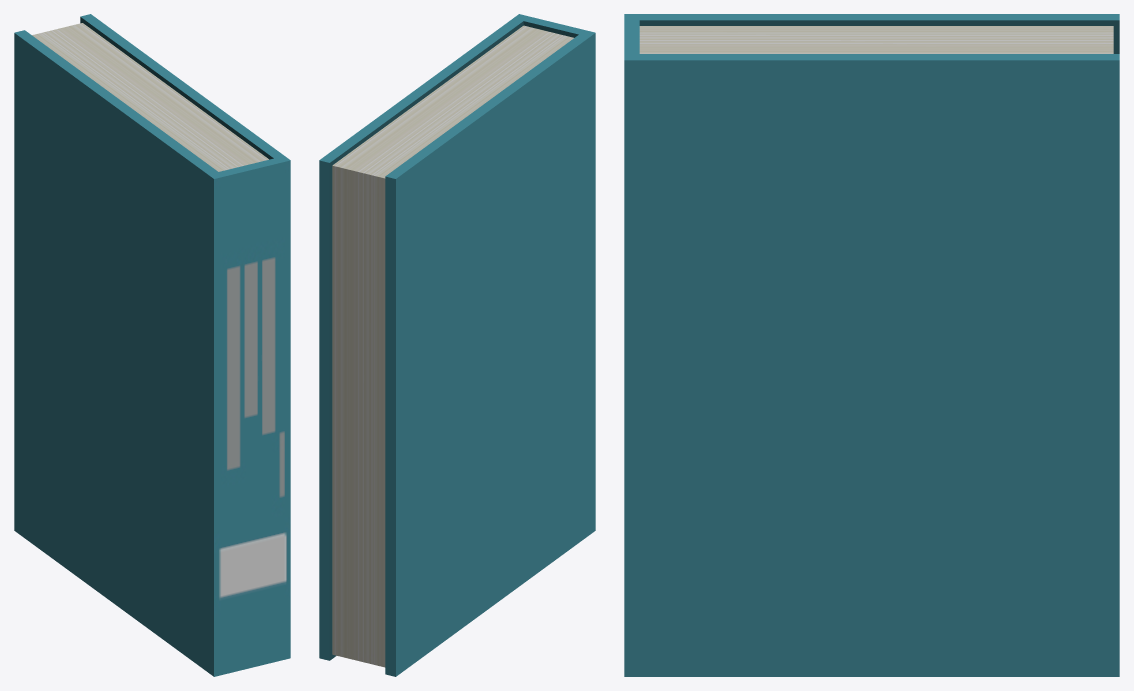
File: BOOK002.fbx
3 renders of one model, left to right at view 1: azimuth 30°, elevation 25°; view 2: azimuth 150°, elevation 25°; view 3: azimuth 270°, elevation 25°, orthographic. The views are drawn at different scales.
Parts seen in each view (by area): view 1: BOOK002; view 2: BOOK002; view 3: BOOK002.
Boxes of the visible parts, bbox=[...] form: BOOK002: bbox=[14, 14, 290, 676]; BOOK002: bbox=[319, 14, 595, 676]; BOOK002: bbox=[624, 14, 1119, 676].
Size of the model in its own units: 3.61 by 22.39 by 16.3.
